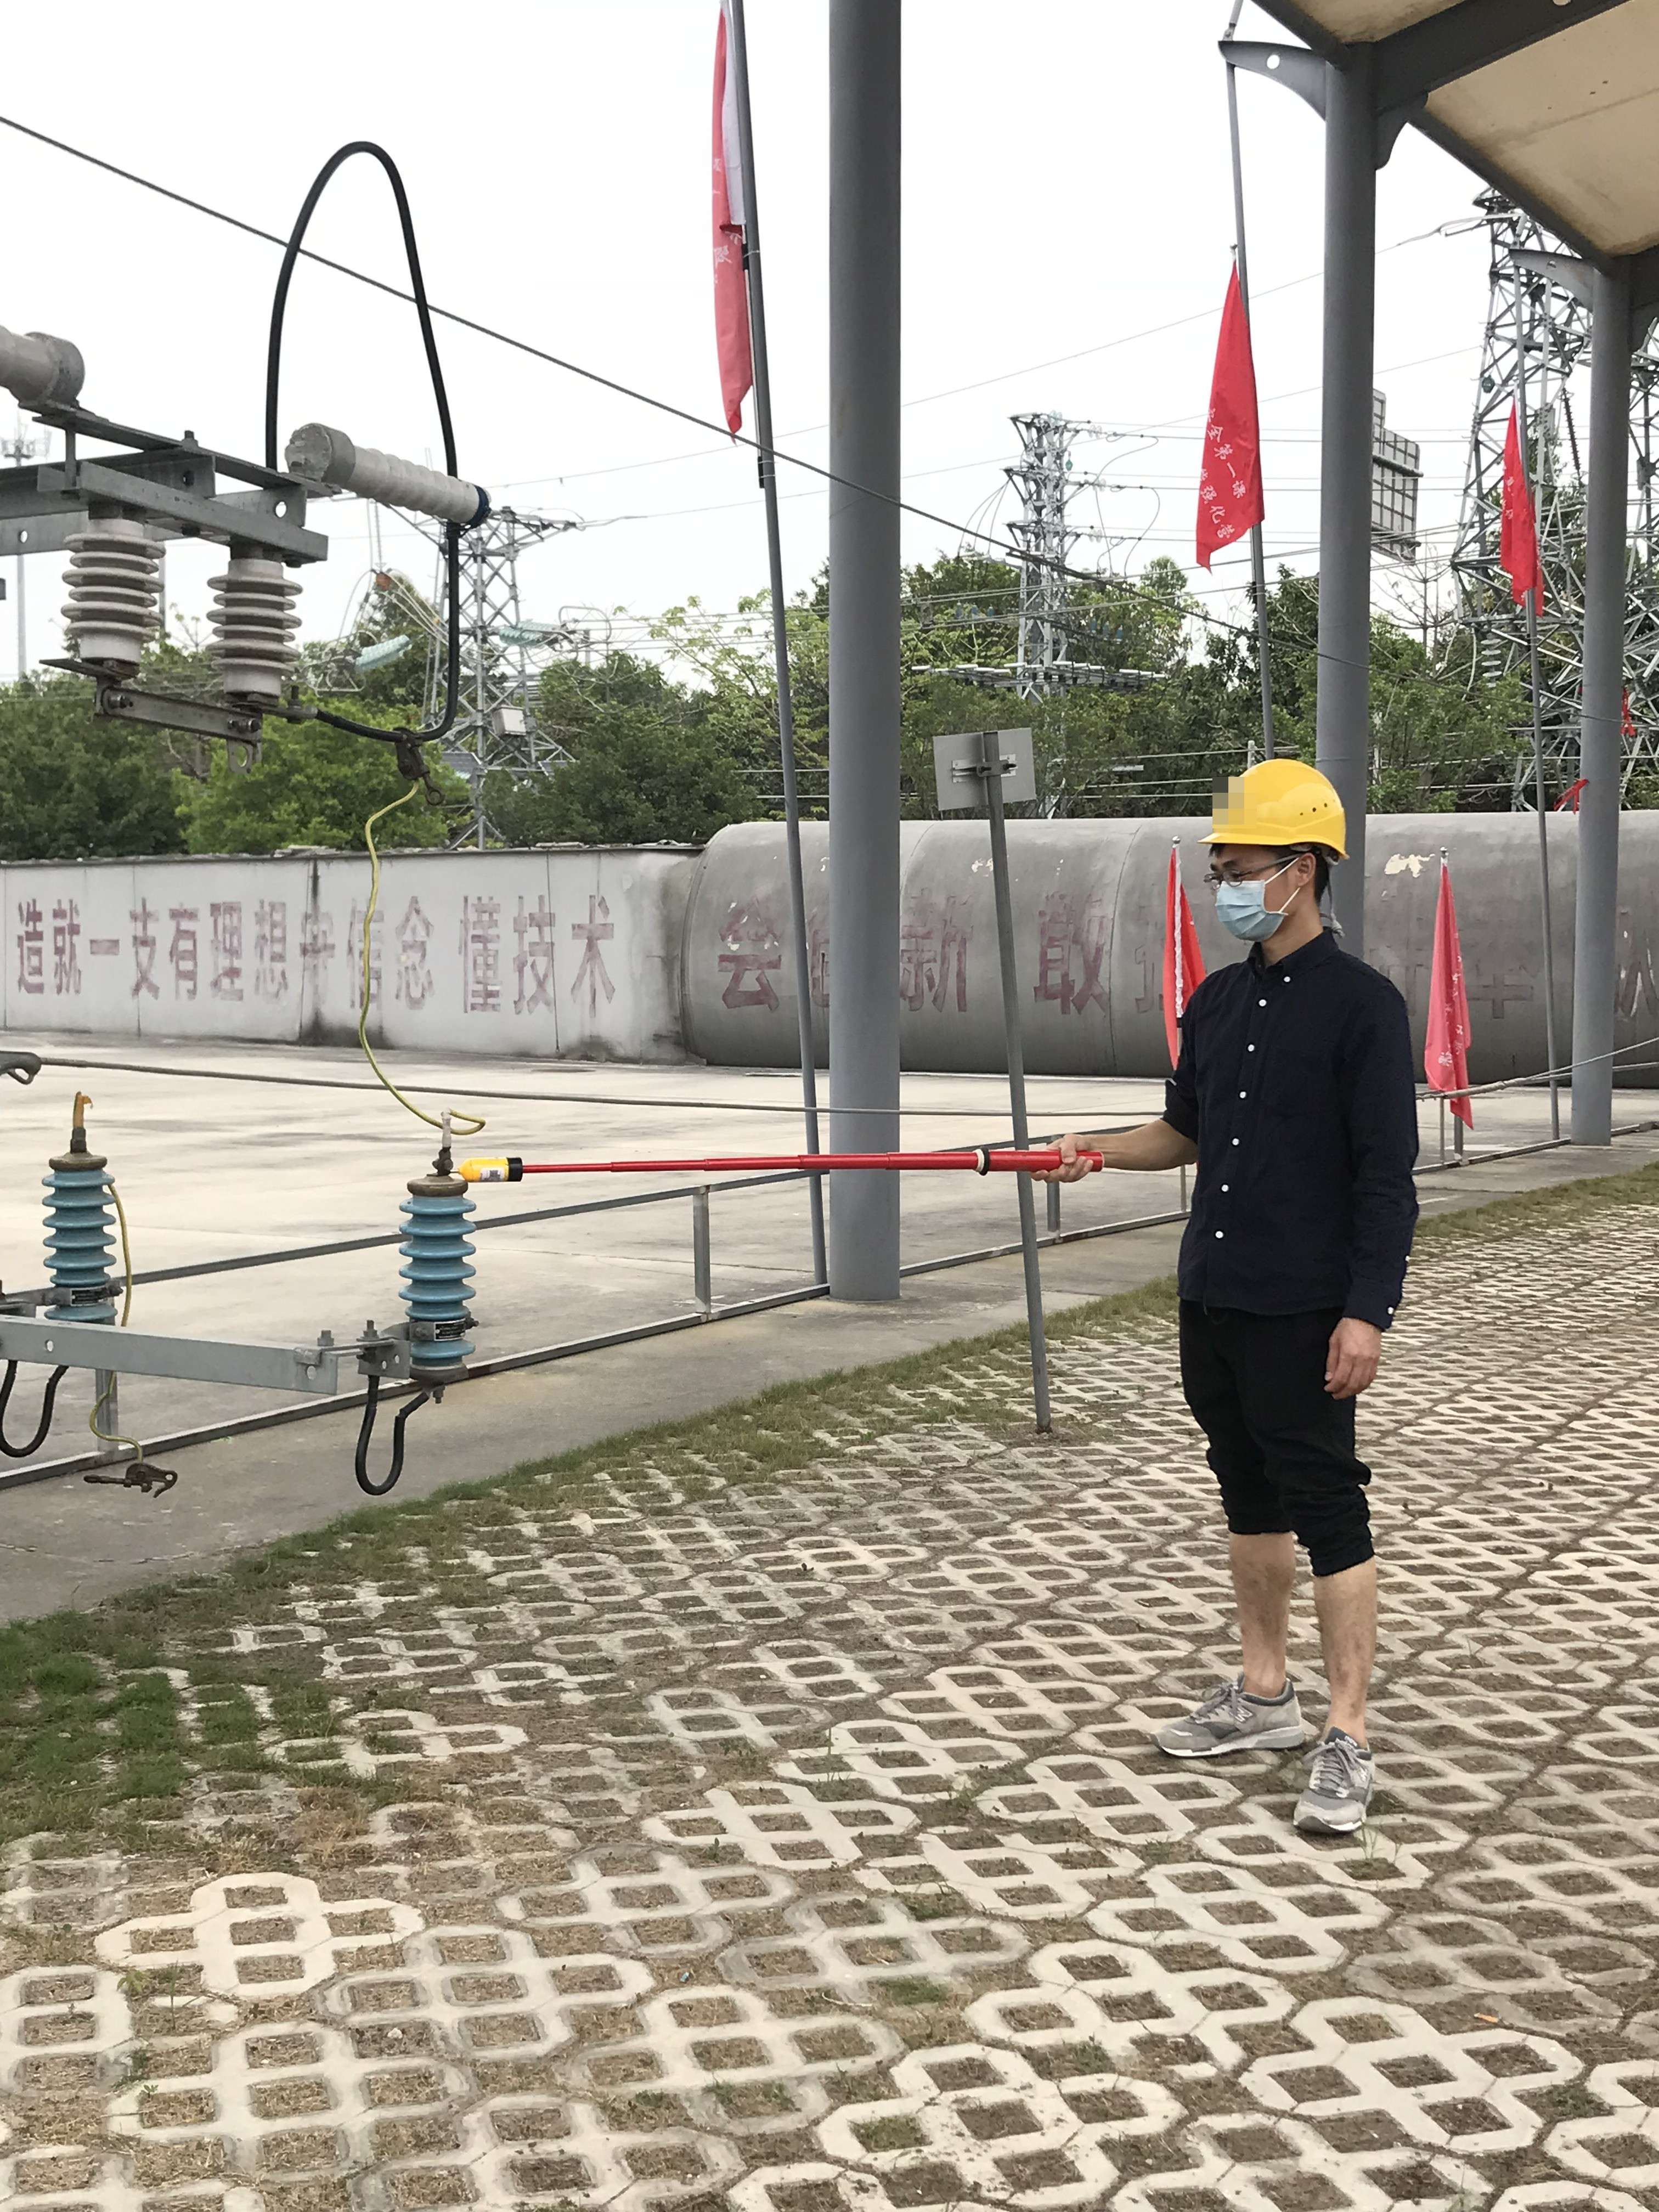downcloth: (1162, 1327, 1377, 1564)
upcloth: (1182, 960, 1405, 1315)
wrongbottom: (1310, 1517, 1384, 1723), (1227, 1480, 1295, 1683)
wrongtop: (1054, 1099, 1192, 1186)
